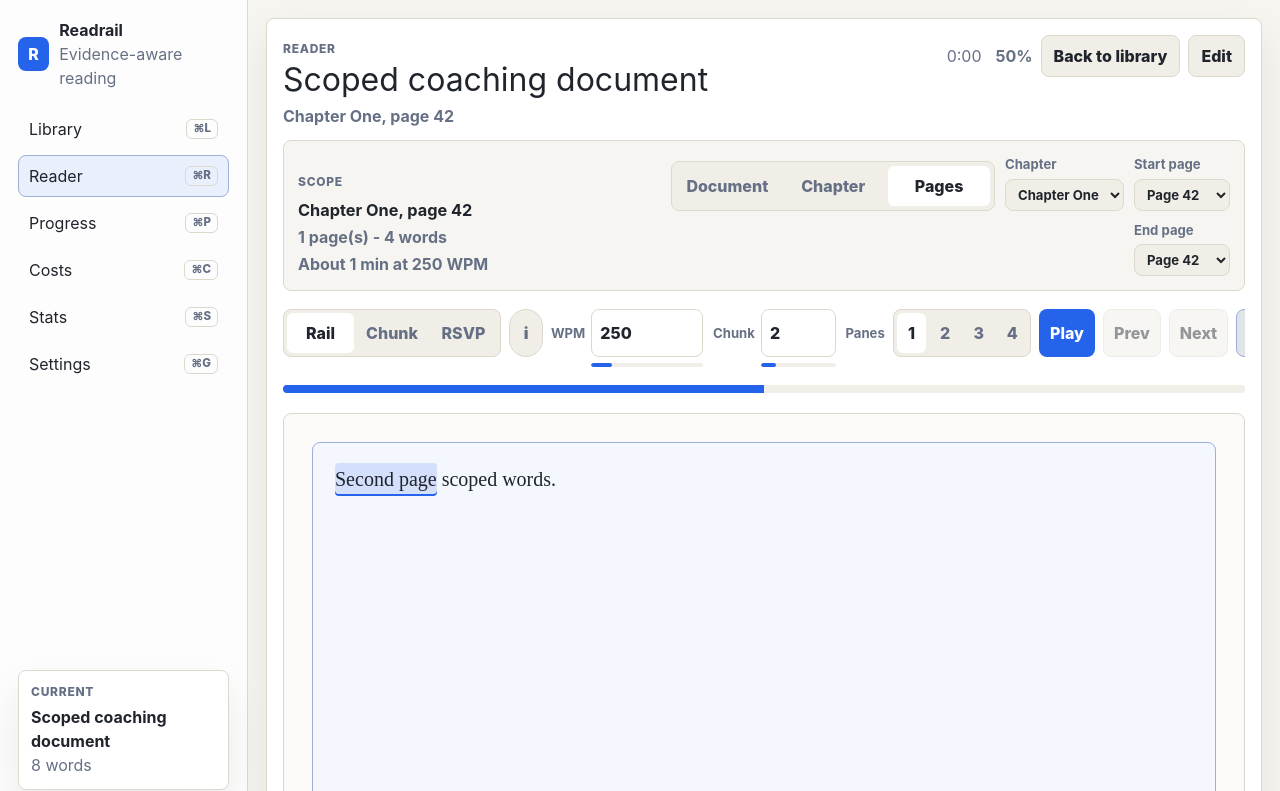
Test: generated coaching flow › lets explicit document scope override the latest saved page scope
Expected: the dropdown labelled "Start page" shows "Page 42", 1134,178 -> 1230,210
Click the button "Document": point(727, 186) 676,166 -> 778,206
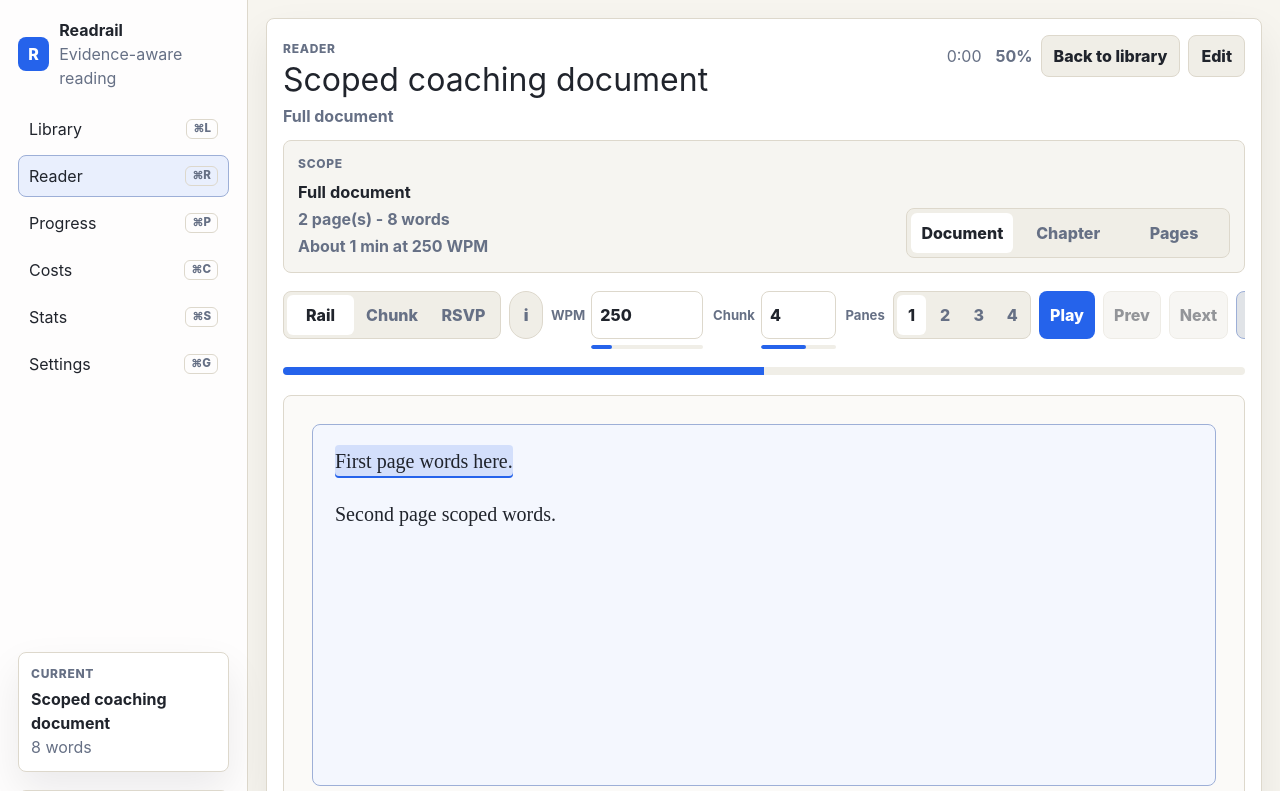
Result: the label labelled "Start page" is gone
Result: the text "Full document" below "0:00" is shown at 283,106 -> 394,126
